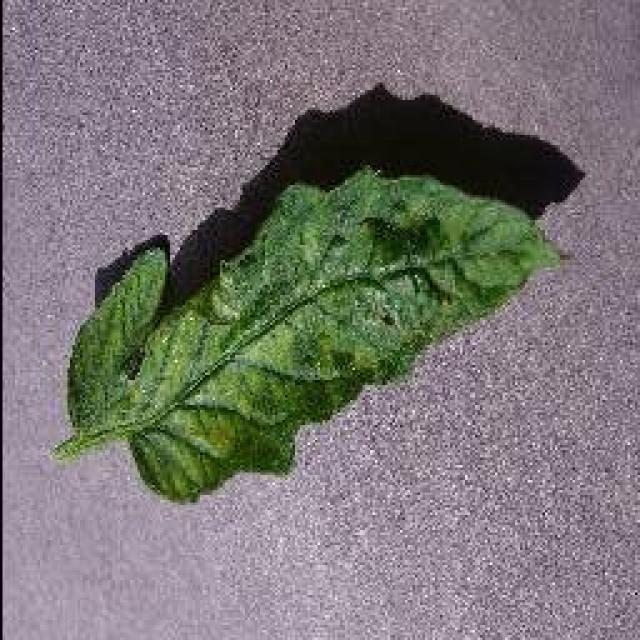Tomato___Tomato_mosaic_virus: (58, 170, 558, 498)
